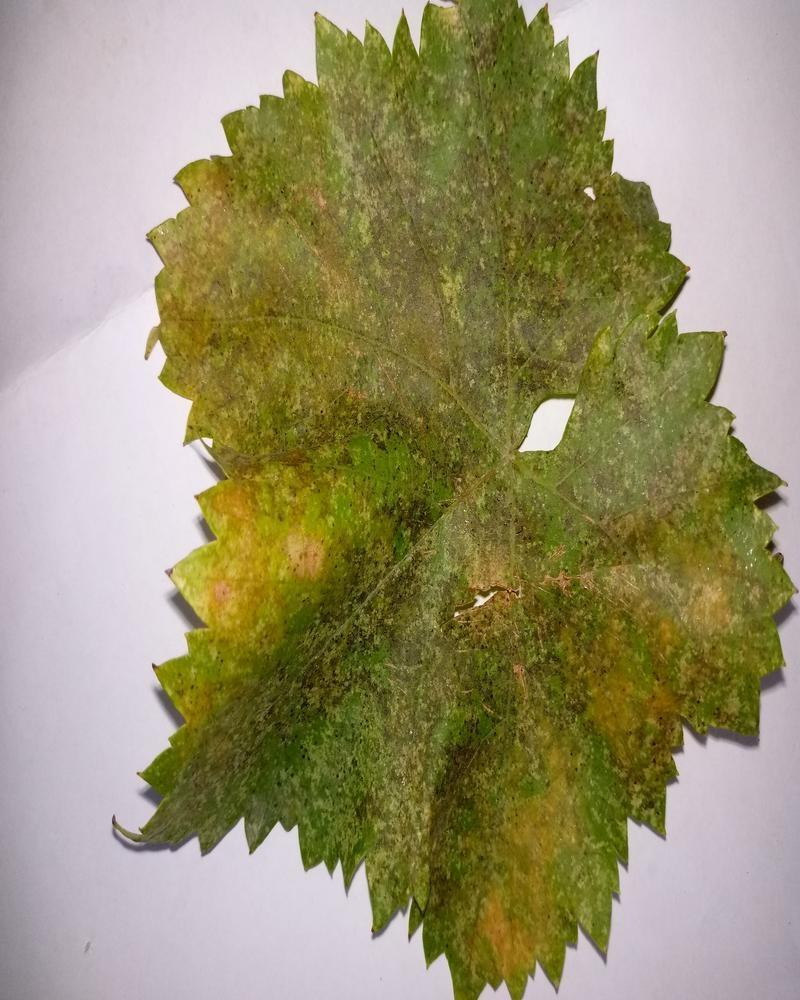Powdery-Mildew: (187, 423, 342, 657), (176, 164, 308, 340), (472, 767, 582, 961), (444, 531, 558, 650), (677, 573, 740, 636)
